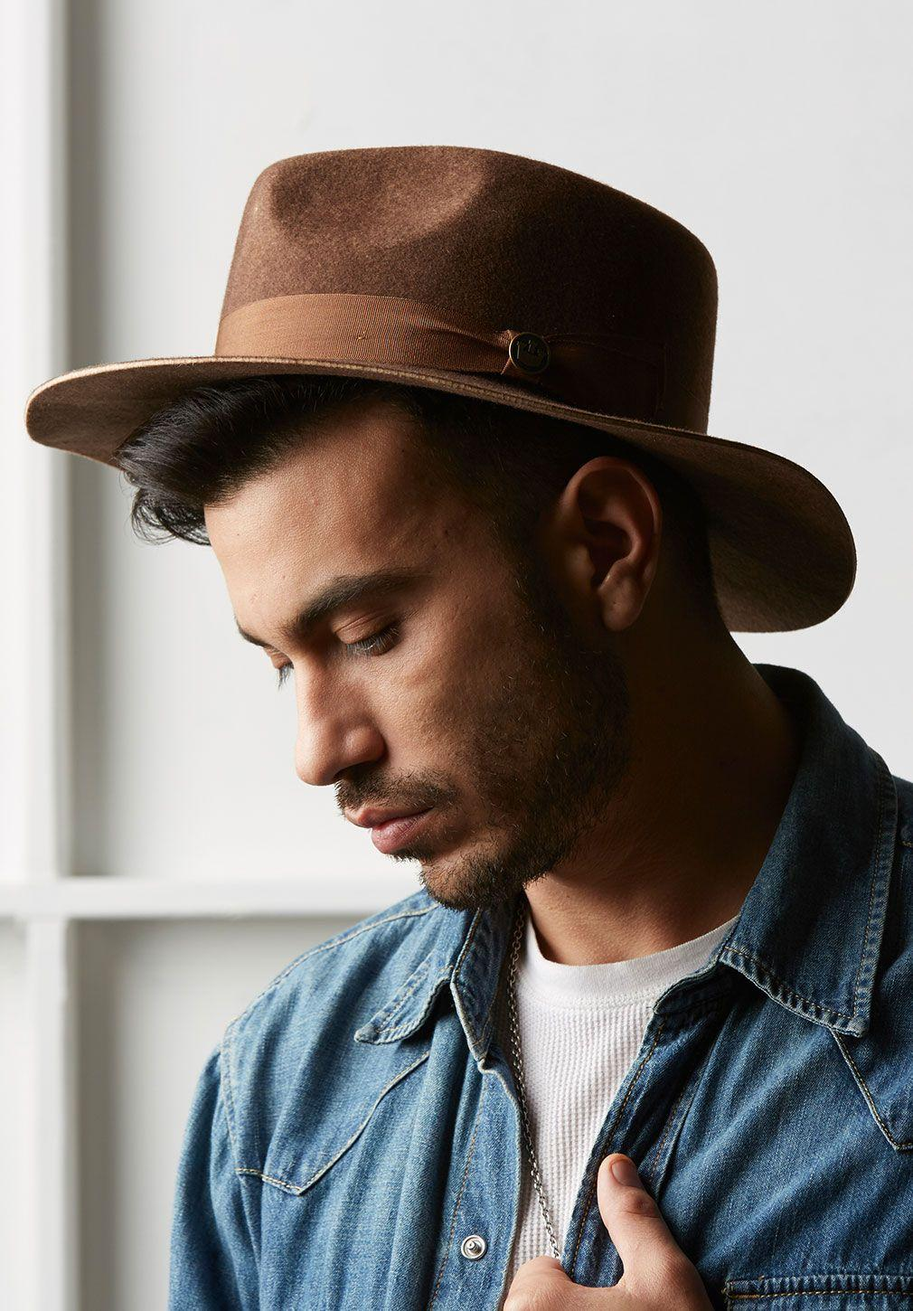cap: (19, 127, 900, 622)
